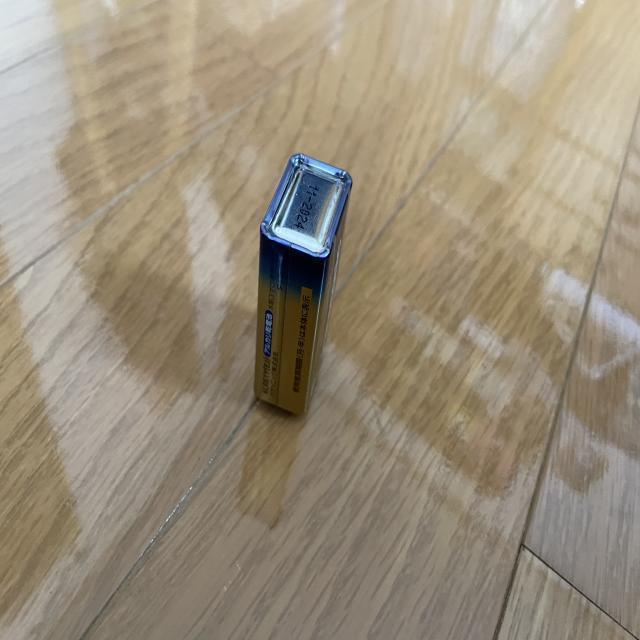9V: (253, 152, 354, 417)
